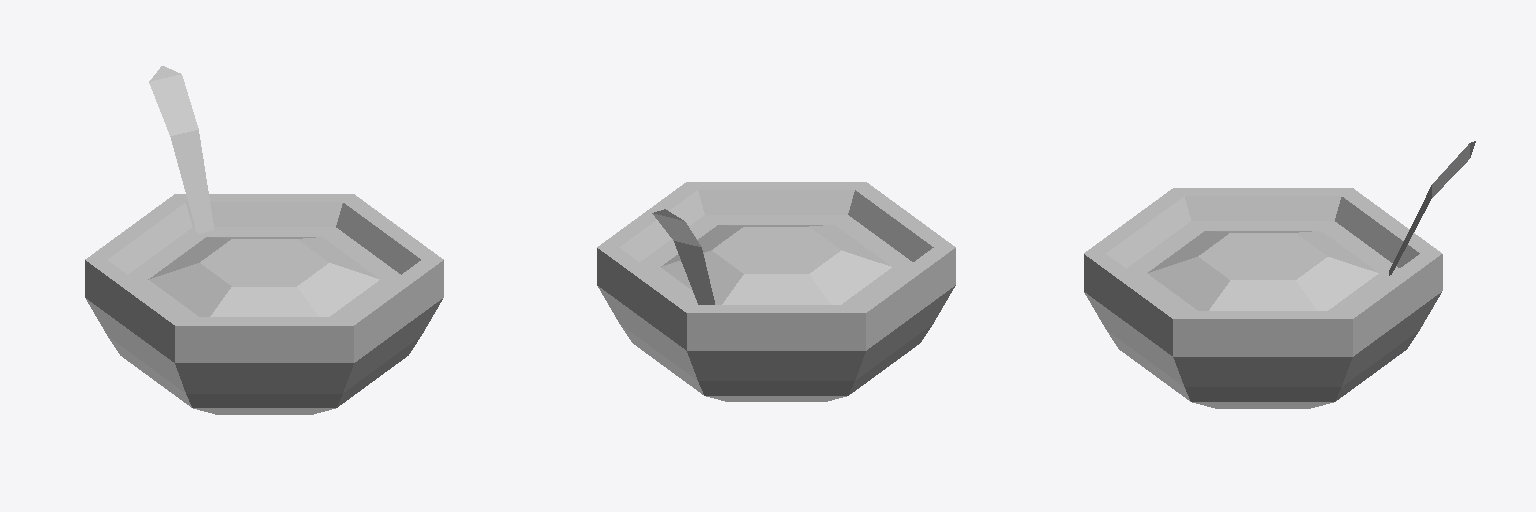
File: bowl-cereal.obj
3 renders of one model, left to right at view 1: azimuth 30°, elevation 25°; view 2: azimuth 150°, elevation 25°; view 3: azimuth 270°, elevation 25°, orthographic.
Visible parts, largest first — view 1: bowl-cereal; view 2: bowl-cereal; view 3: bowl-cereal.
Part boxes in pixels (bbox=[...]): bowl-cereal: bbox=[85, 66, 443, 414]; bowl-cereal: bbox=[597, 182, 955, 401]; bowl-cereal: bbox=[1084, 141, 1475, 408].
Bounding box in the file's own units: 0.5022 × 0.4193 × 0.6346.